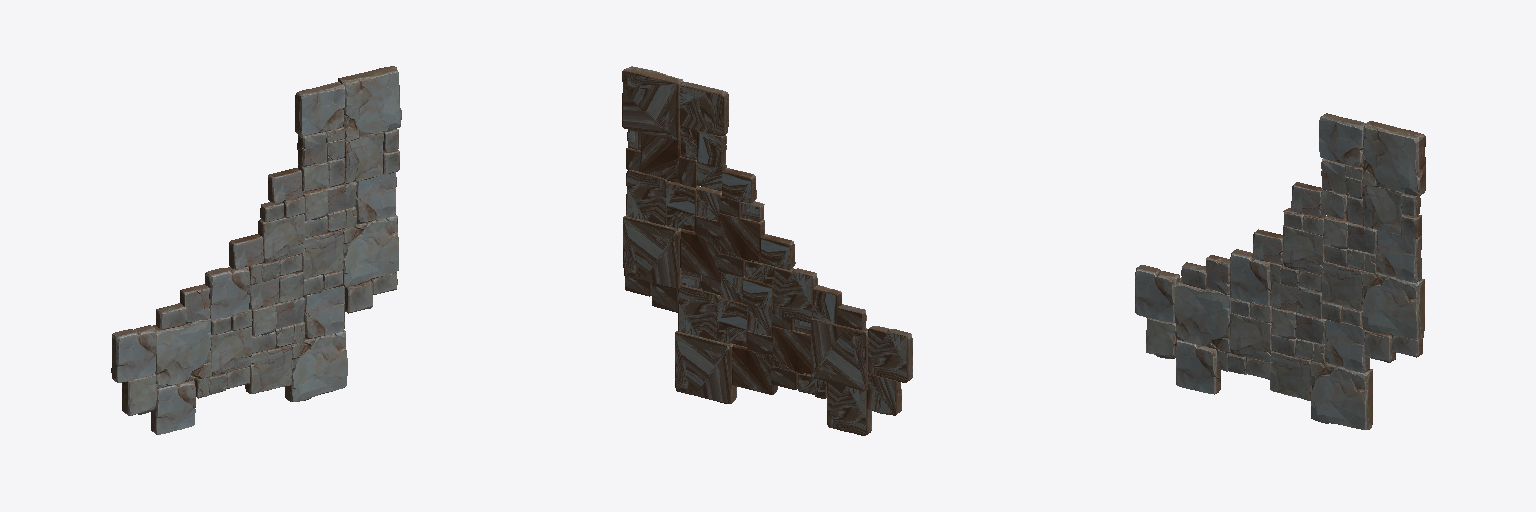
3 renders of one model, left to right at view 1: azimuth 30°, elevation 25°; view 2: azimuth 150°, elevation 25°; view 3: azimuth 330°, elevation 25°, orthographic.
Visible parts, largest first — view 1: Dn_HLLvl2_FloorTiles_A; view 2: Dn_HLLvl2_FloorTiles_A; view 3: Dn_HLLvl2_FloorTiles_A.
Part boxes in pixels (left/top/right/bottom): Dn_HLLvl2_FloorTiles_A: left=111, top=66, right=401, bottom=434; Dn_HLLvl2_FloorTiles_A: left=622, top=66, right=912, bottom=435; Dn_HLLvl2_FloorTiles_A: left=1135, top=113, right=1425, bottom=429.
Bounding box in the file's own units: 22.07 × 22.8 × 1.23.
Materials: 2 (1 with a texture image).